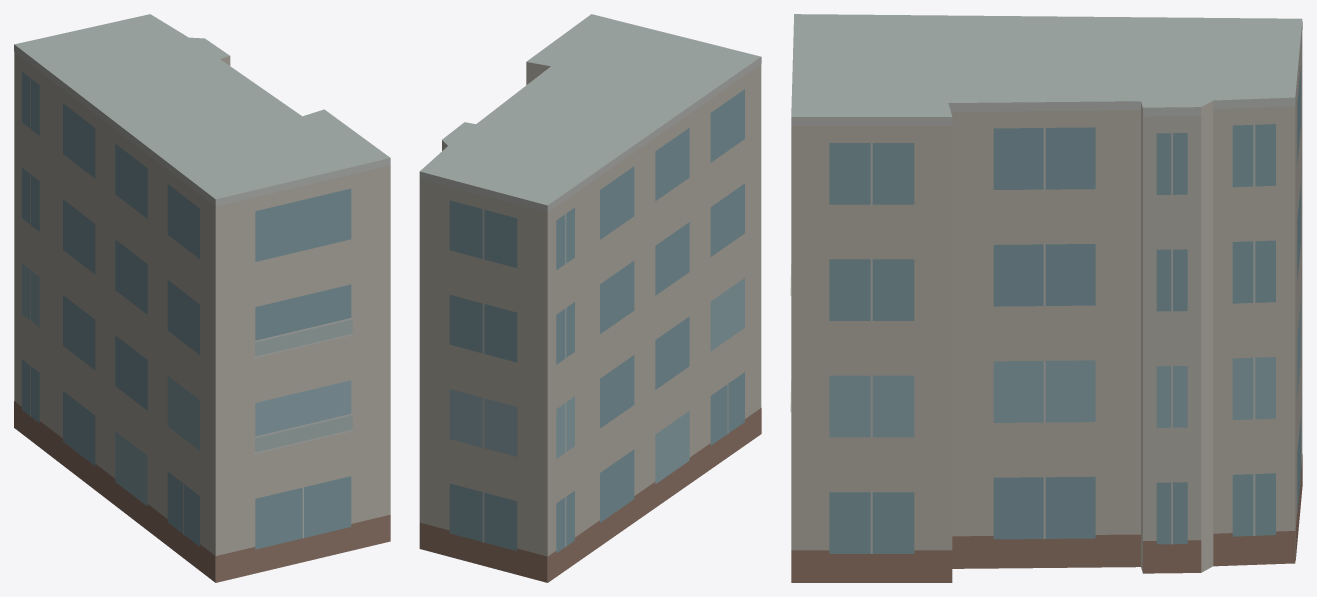
Rendered from survey-upis-33026500.glb.
3 renders of one model, left to right at view 1: azimuth 30°, elevation 25°; view 2: azimuth 150°, elevation 25°; view 3: azimuth 270°, elevation 25°, orthographic. The views are drawn at different scales.
Visible parts, largest first — view 1: survey-upis-33026500.tmp; view 2: survey-upis-33026500.tmp; view 3: survey-upis-33026500.tmp.
Part boxes in pixels (x1,y1,x2,y2): survey-upis-33026500.tmp: (14,14,390,582); survey-upis-33026500.tmp: (419,14,761,582); survey-upis-33026500.tmp: (790,14,1302,582).
Size of the model in its own units: 6.09 by 12.8 by 12.76.
